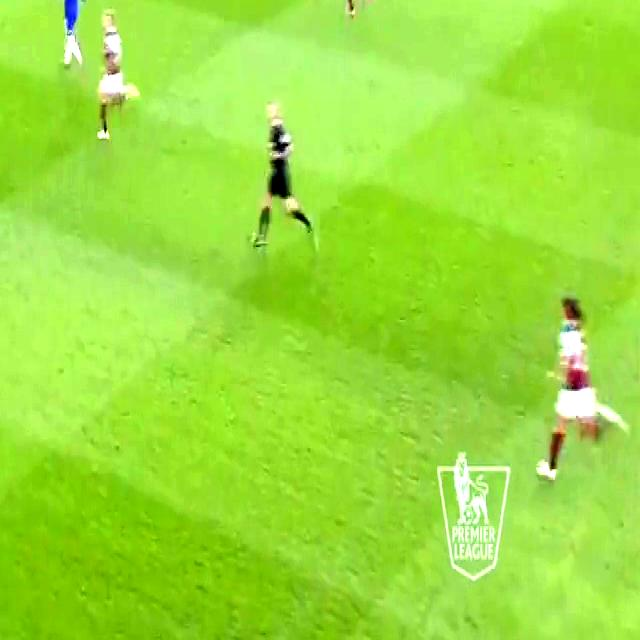referee: (241, 89, 323, 267)
soccer-player: (538, 284, 624, 482), (91, 2, 140, 156), (47, 0, 94, 68), (333, 0, 375, 21)
